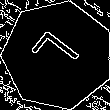L_SE: (28, 27, 88, 83)
